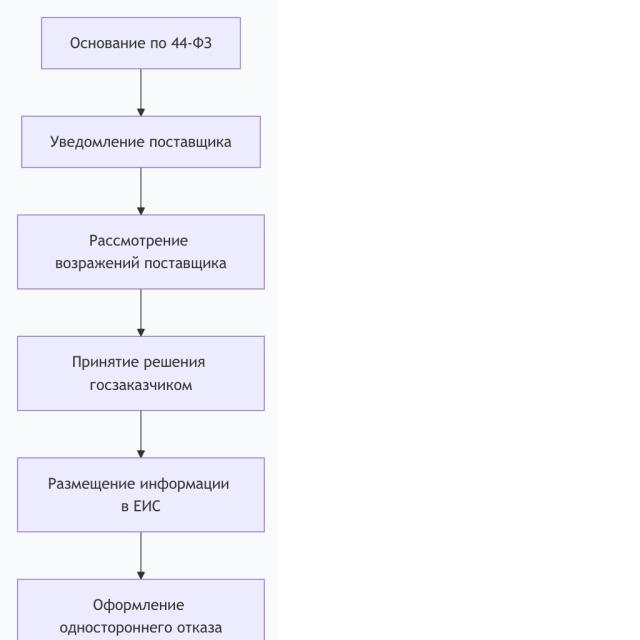arrow: (137, 532, 144, 579), (137, 168, 144, 214), (138, 290, 144, 336), (138, 411, 144, 457), (138, 70, 144, 115)
rectangle: (18, 335, 264, 411), (18, 457, 264, 532), (18, 215, 264, 289), (22, 116, 260, 168), (42, 17, 241, 69)
